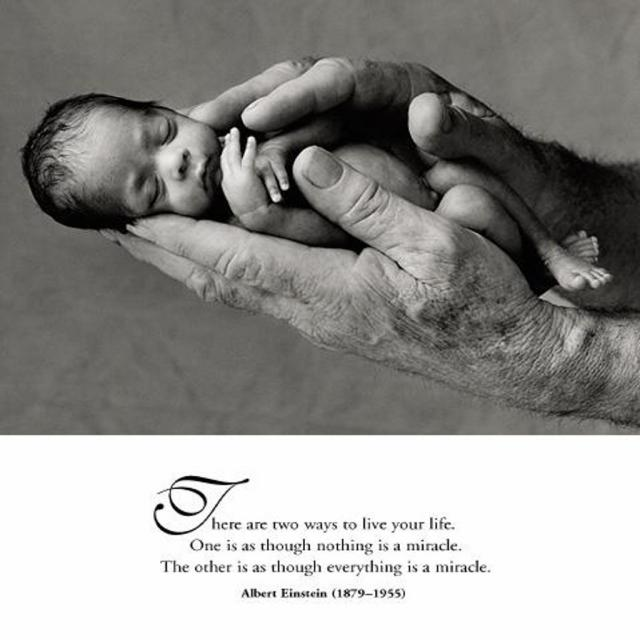nomask: (82, 106, 226, 218)
